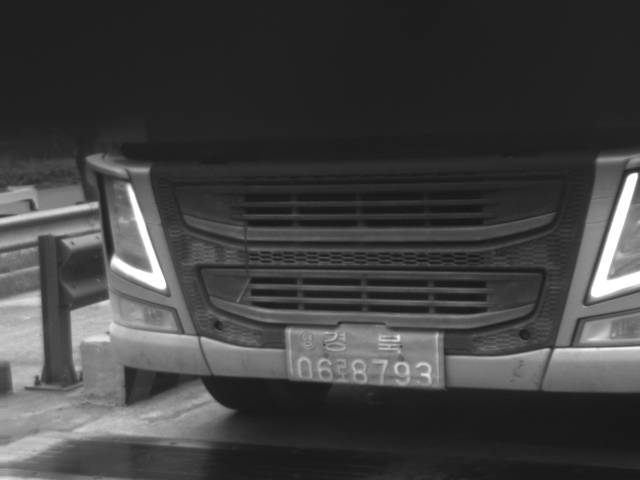car: (80, 129, 639, 416)
plate: (284, 323, 445, 391)
